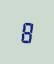eight: (19, 19, 32, 44)
